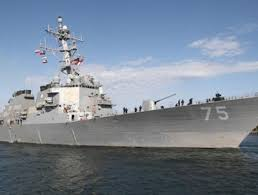tau_muctieu: (1, 34, 256, 151)
